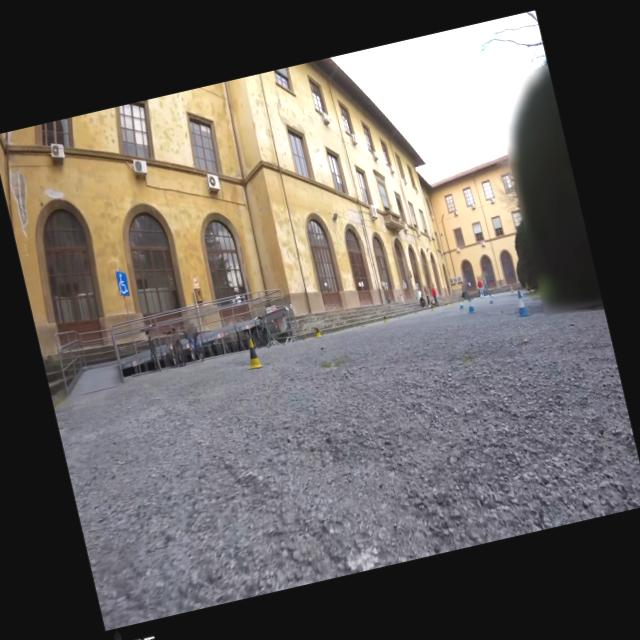blue_cone: (511, 288, 531, 318), (464, 296, 476, 314), (458, 298, 464, 310), (487, 294, 494, 304)
yellow_cone: (240, 336, 264, 370), (312, 323, 322, 338), (382, 312, 388, 322), (430, 304, 434, 310)
